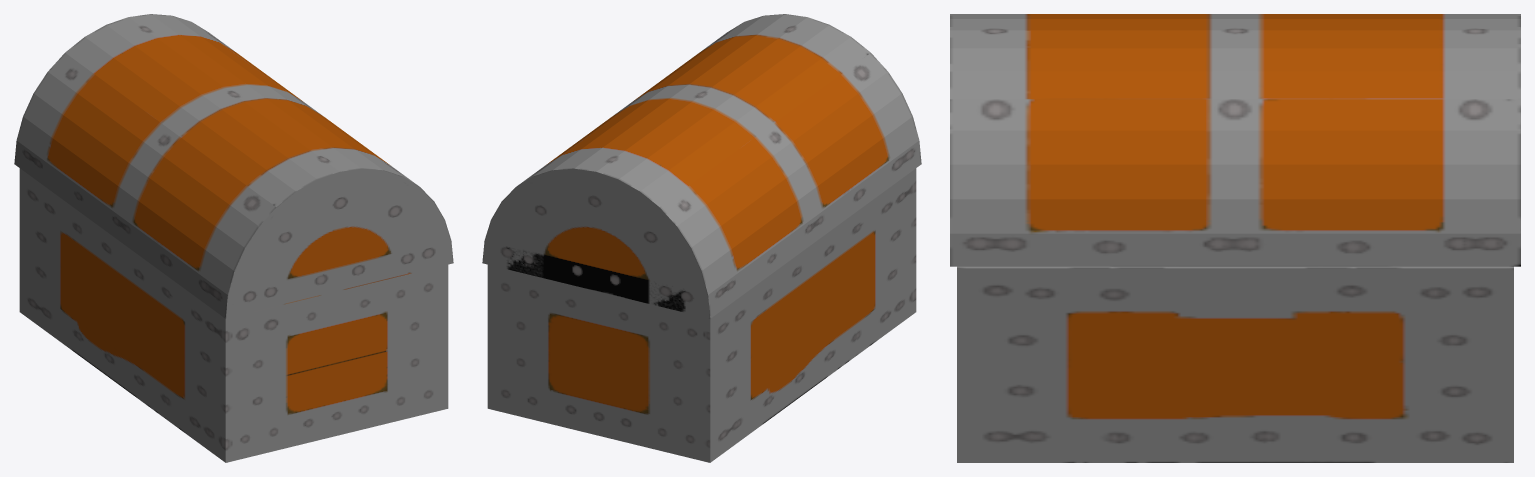
File: Cofre.fbx
The picture shows the model from 3 angles, left to right: view 1: azimuth 30°, elevation 25°; view 2: azimuth 150°, elevation 25°; view 3: azimuth 270°, elevation 25°; orthographic projection. The views are drawn at different scales.
Parts seen in each view (by area): view 1: Cofre lowpoly; view 2: Cofre lowpoly; view 3: Cofre lowpoly.
Part boxes in pixels (<box>): Cofre lowpoly: <box>14,14,453,462</box>; Cofre lowpoly: <box>482,14,921,462</box>; Cofre lowpoly: <box>950,14,1520,462</box>.
Size of the model in its own units: 214 by 238 by 343.
